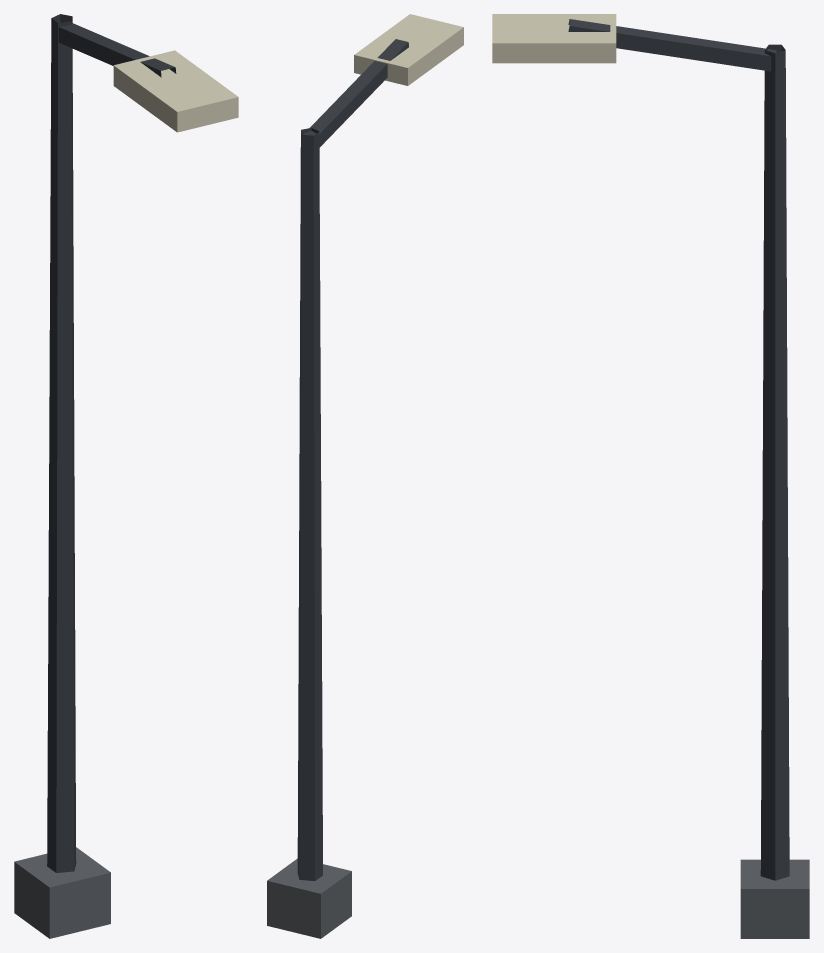
File: lampu.glb
The picture shows the model from 3 angles, left to right: view 1: azimuth 30°, elevation 25°; view 2: azimuth 150°, elevation 25°; view 3: azimuth 270°, elevation 25°; orthographic projection. The views are drawn at different scales.
Parts seen in each view (by area): view 1: potongan_lampu; view 2: potongan_lampu; view 3: potongan_lampu.
Boxes of the visible parts, x1,y1,x2,y2 form: potongan_lampu: (14, 14, 238, 938); potongan_lampu: (267, 14, 463, 938); potongan_lampu: (492, 14, 809, 938).
Bounding box in the file's own units: 0.5 × 7.21 × 2.3.
